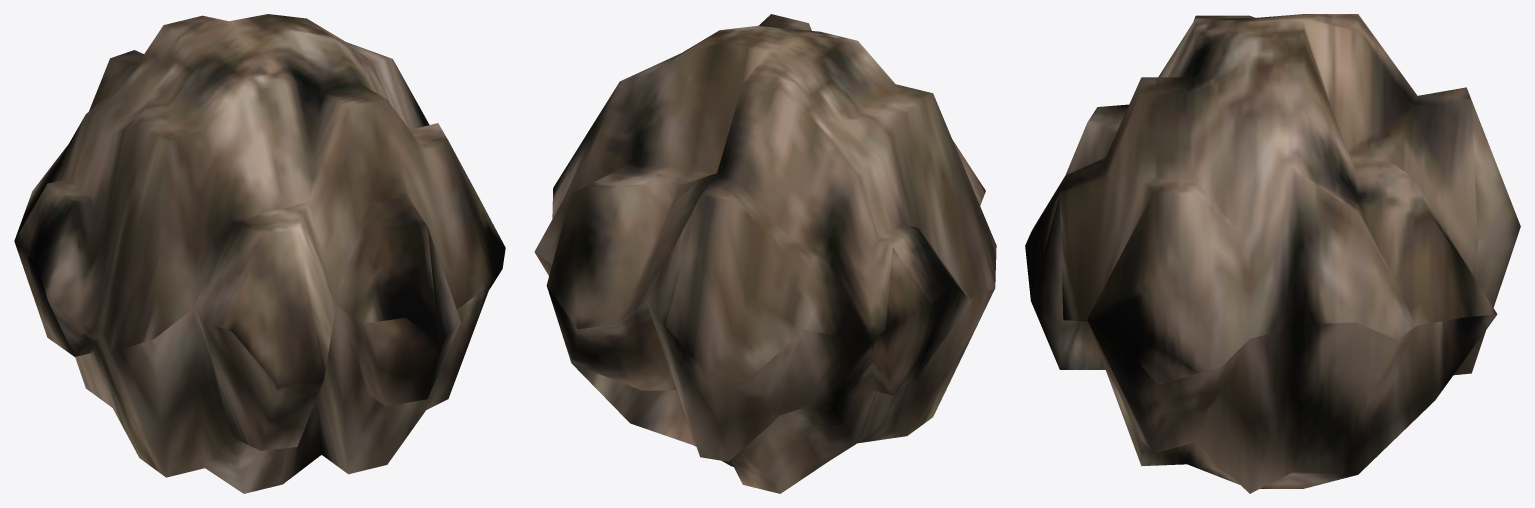
The model's file is INST_BOULDER.obj.
3 views of the same model, side by side, from view 1: azimuth 30°, elevation 25°; view 2: azimuth 150°, elevation 25°; view 3: azimuth 270°, elevation 25° (orthographic). The views are drawn at different scales.
Visible parts, largest first — view 1: Sphere01; view 2: Sphere01; view 3: Sphere01.
Boxes of the visible parts, x1,y1,x2,y2 form: Sphere01: (14, 14, 505, 493); Sphere01: (534, 14, 996, 493); Sphere01: (1025, 14, 1520, 493).
Size of the model in its own units: 153 by 155 by 156.
